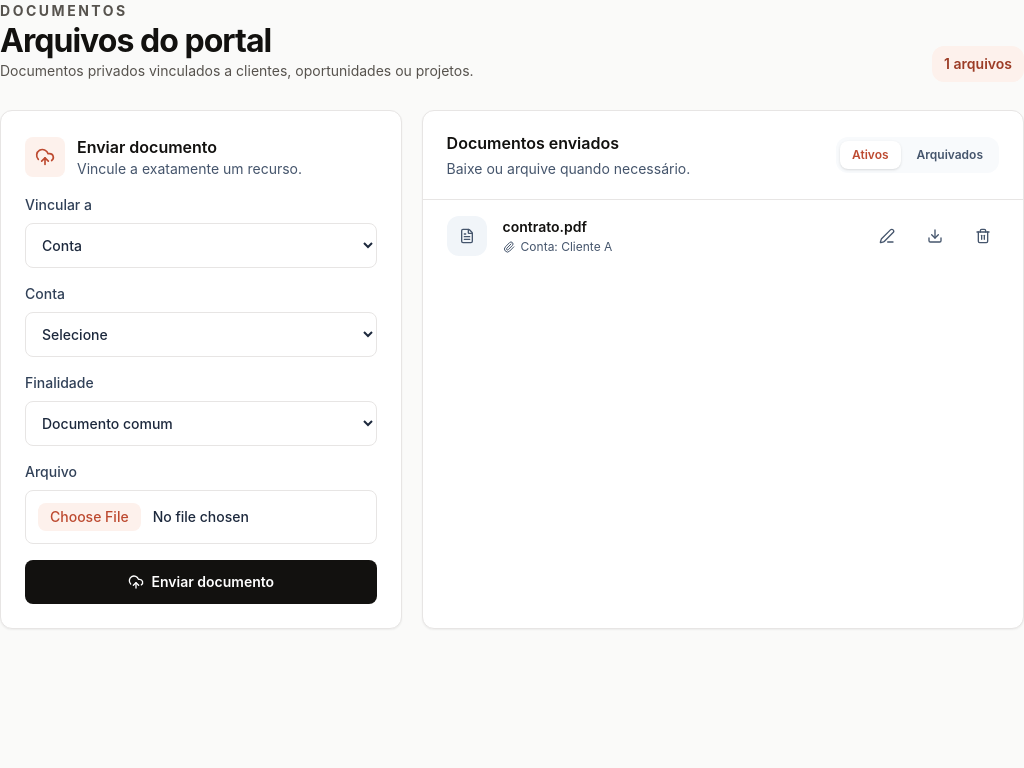
sem e-mail da casa configurado a linha some inteira
expect the text "contrato.pdf" is shown: met, box [503, 218, 587, 235]
Click the button named "Enviar contrato.pdf para assinatura" at (887, 236), box [871, 220, 903, 252]
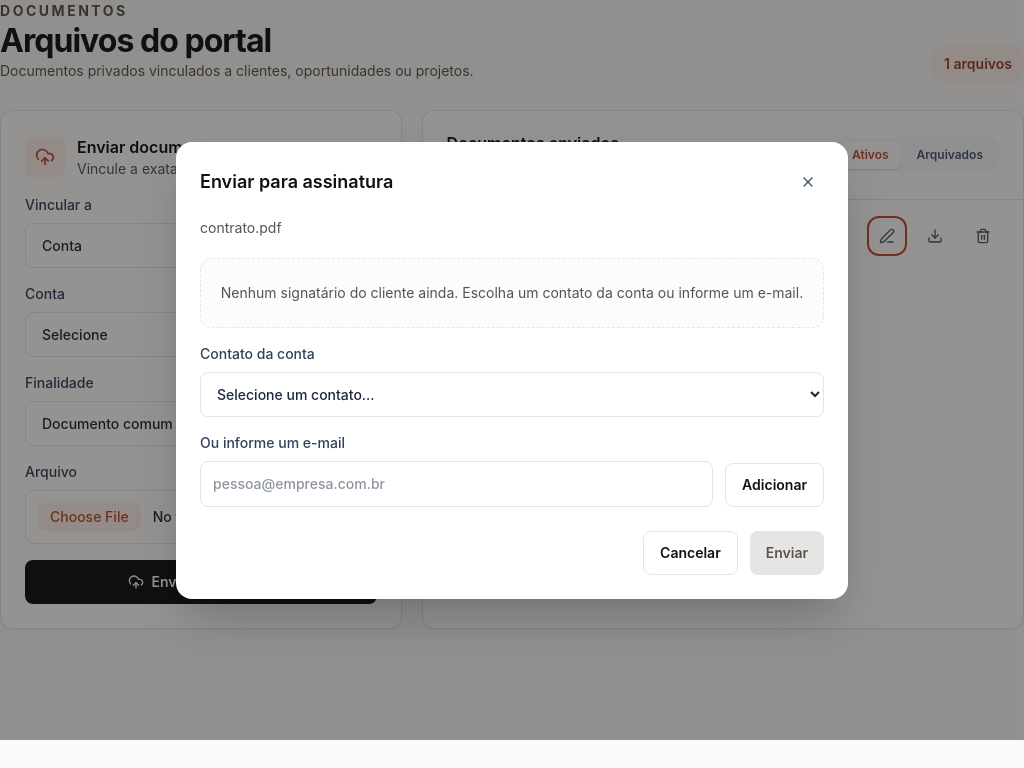
expect the text "Nenhum signatário do cliente ainda" is shown: met, box [221, 284, 803, 300]
